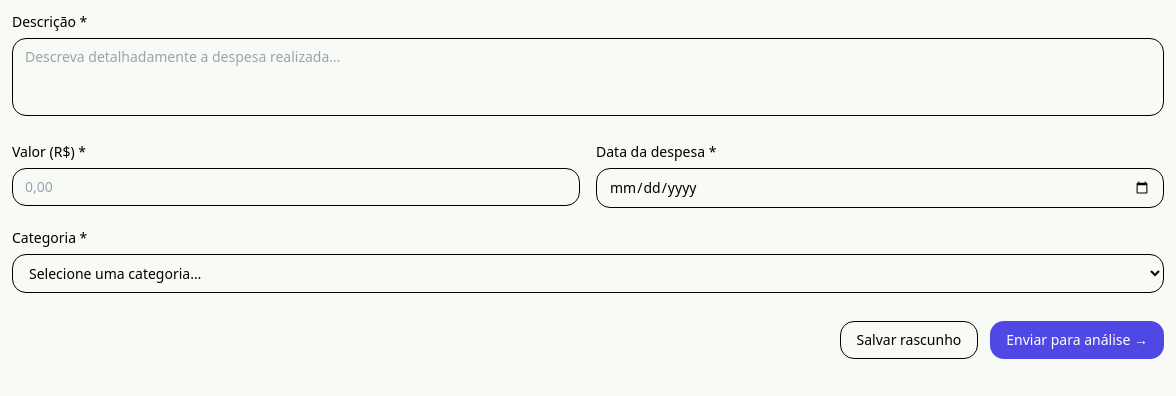
Test: ReimbursementForm › shows validation error when expense date is missing
The width and height of the screenshot is (1176, 396).
In the text box with placeholder "Descreva detalhadamente a despesa realizada…": (588, 77) x1=12 y1=38 x2=1164 y2=116, type "Almoço de negócios"
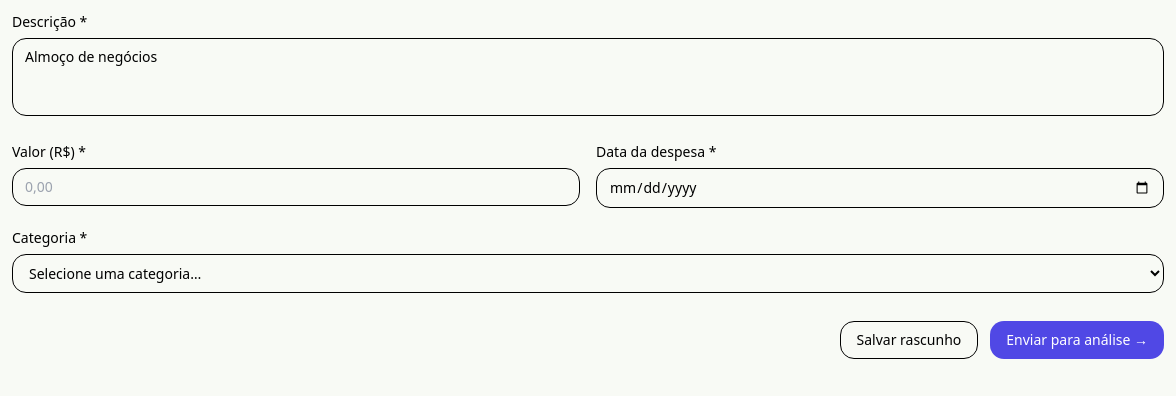
In the number field: (296, 187) x1=12 y1=168 x2=580 y2=206, type "50"
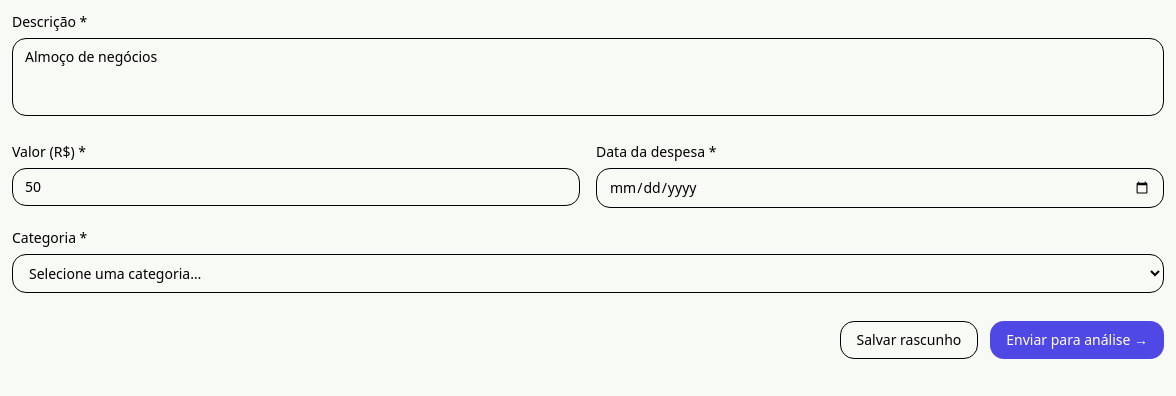
Select "Alimentação" in the dropdown: (588, 274) x1=12 y1=254 x2=1164 y2=293
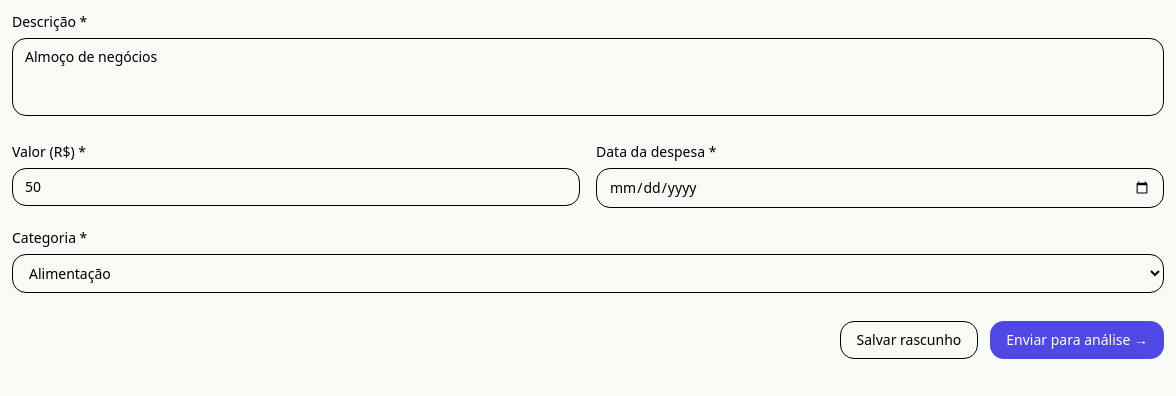
Click the button "Salvar rascunho": click(909, 340) x1=840 y1=321 x2=978 y2=359
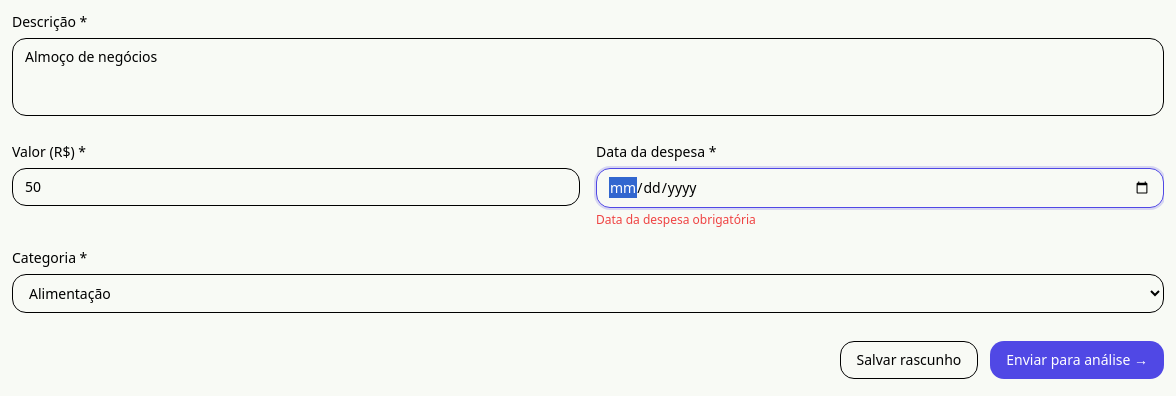
Result: the text "Data da despesa obrigatória" is shown at x1=596 y1=211 x2=756 y2=228
